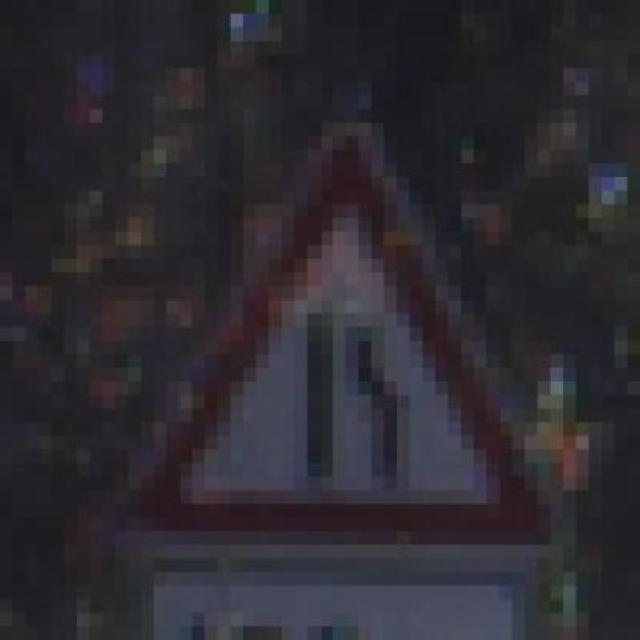-Road narrows on right: (141, 110, 564, 572)
